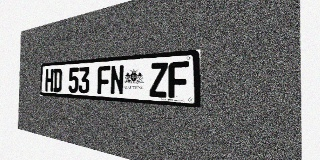3: (79, 67, 90, 94)
5: (69, 67, 79, 93)
D: (53, 68, 62, 92)
F: (168, 61, 189, 99), (97, 66, 110, 95)
H: (45, 69, 53, 92)
N: (110, 65, 124, 95)
Z: (149, 62, 168, 98)
